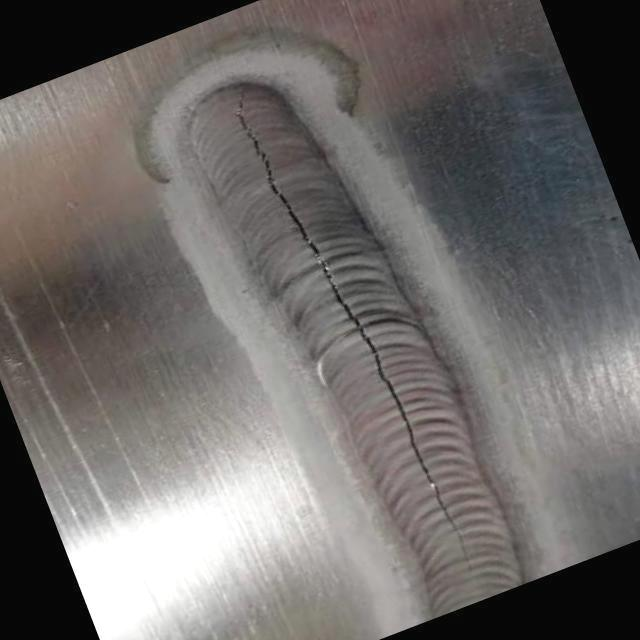defect: (227, 80, 477, 579)
